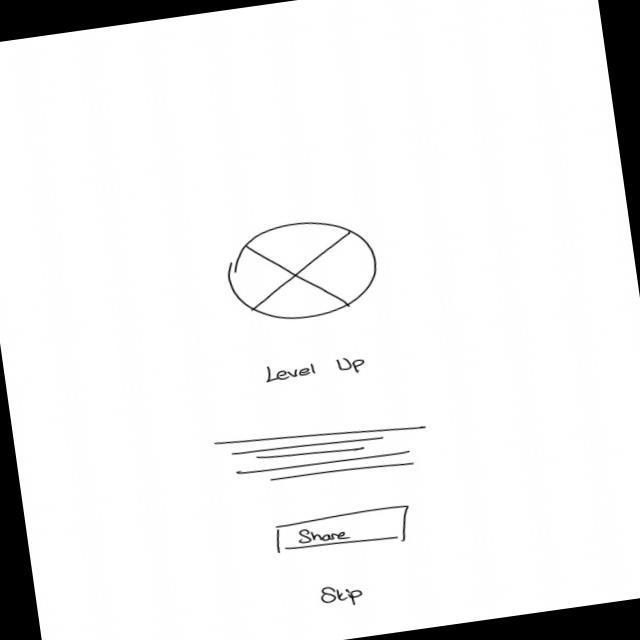button: (270, 503, 417, 562)
image: (222, 213, 385, 331)
label: (263, 351, 371, 389), (317, 580, 368, 613)
textbox: (214, 413, 434, 494)
